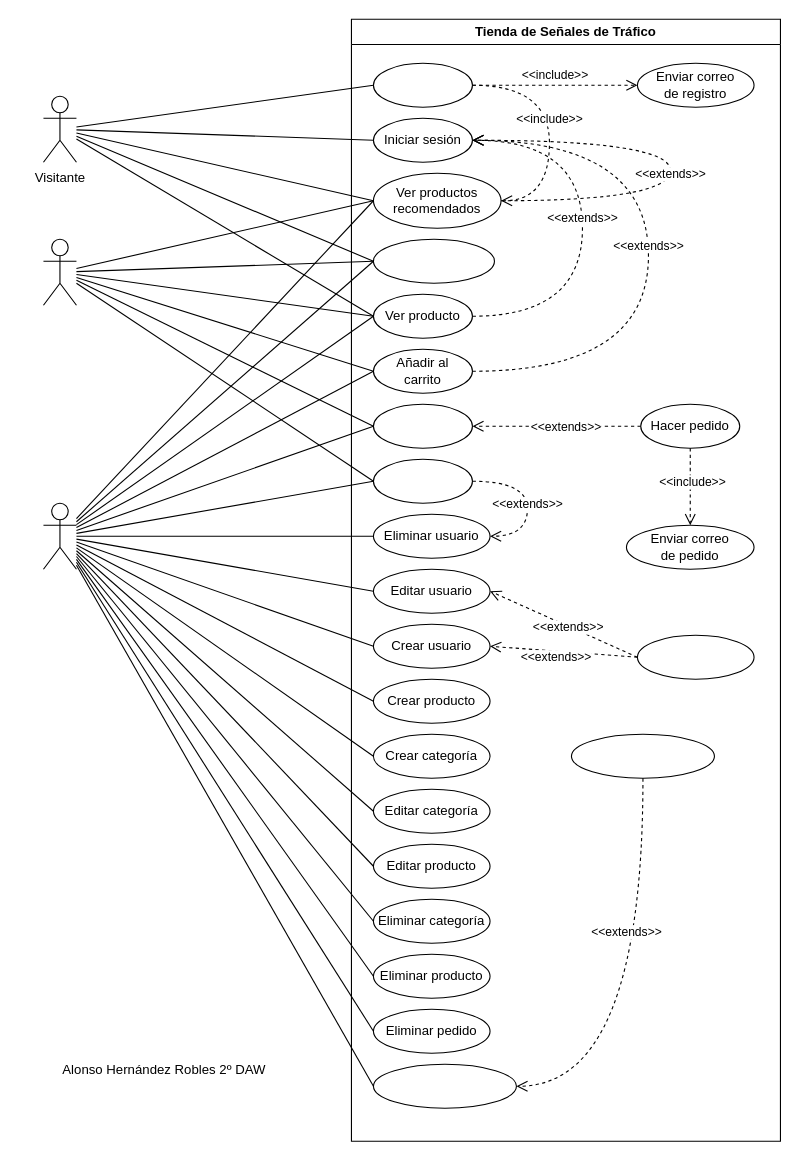
The diagram is 800 pixels wide and 1161 high, and some of its shapes have lost their labels. The box of each missing label's shape, as (x1, y1, x2, y2) in pixels:
Administrador: (42, 502, 76, 569)
Buscar producto: (372, 238, 494, 283)
Cambiar estado de pedido: (372, 1063, 516, 1108)
Cerrar sesión: (372, 458, 472, 503)
Enviar correo de confirmación: (570, 733, 714, 778)
Establecer rol: (636, 634, 754, 679)
Registrarse: (372, 62, 472, 107)
Usuario: (42, 238, 76, 305)
Ver carrito: (372, 403, 472, 448)
